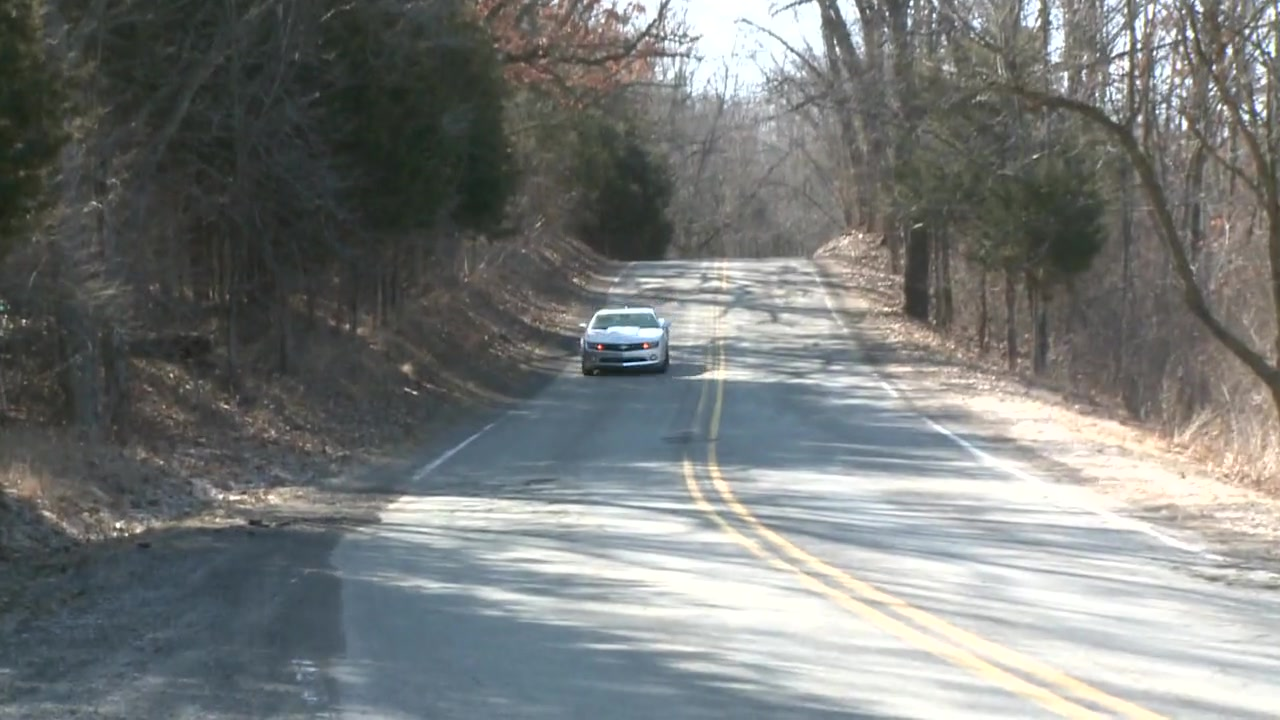car: (575, 305, 672, 377)
